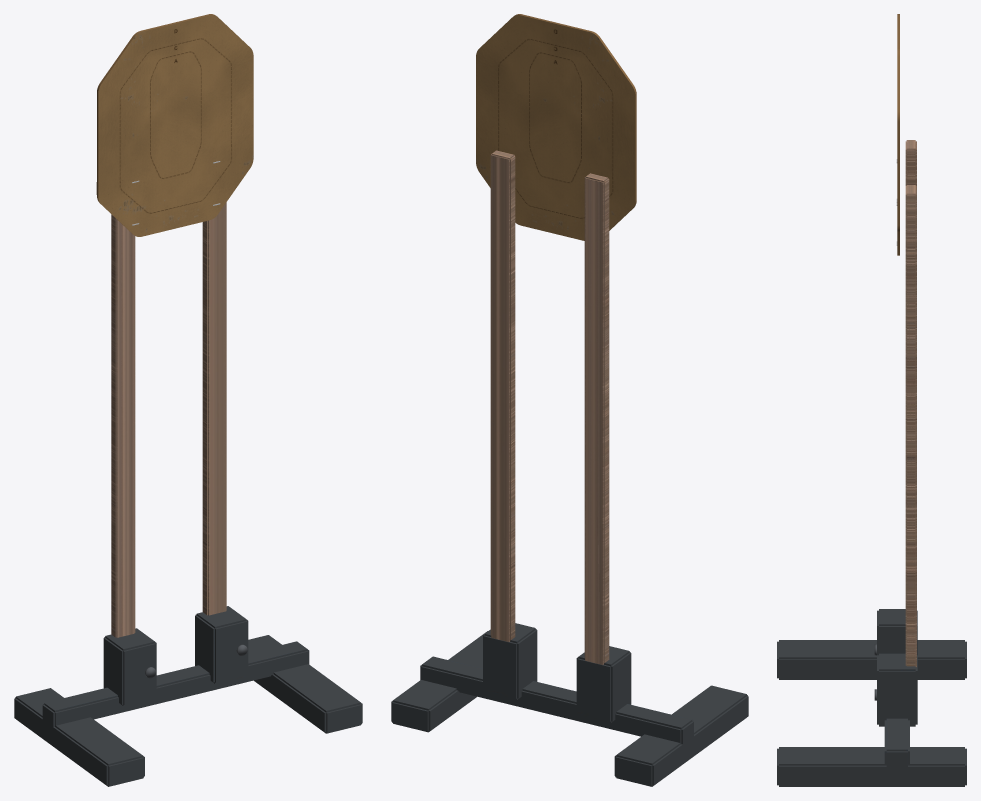
File: obj_paper_mini.glb
3 views of the same model, side by side, from view 1: azimuth 30°, elevation 25°; view 2: azimuth 150°, elevation 25°; view 3: azimuth 270°, elevation 25° (orthographic). The views are drawn at different scales.
Visible parts, largest first — view 1: paper_mini_body, card; view 2: paper_mini_body, card; view 3: paper_mini_body, card.
Boxes of the visible parts, x1=… form: paper_mini_body: x1=14, y1=202, x2=362, y2=786; card: x1=96, y1=14, x2=253, y2=236; paper_mini_body: x1=391, y1=150, x2=748, y2=786; card: x1=476, y1=14, x2=636, y2=240; paper_mini_body: x1=777, y1=140, x2=966, y2=786; card: x1=897, y1=14, x2=899, y2=255.
Bounding box in the file's own units: 0.47 × 1.21 × 0.3.
5 materials, 2 textured.
